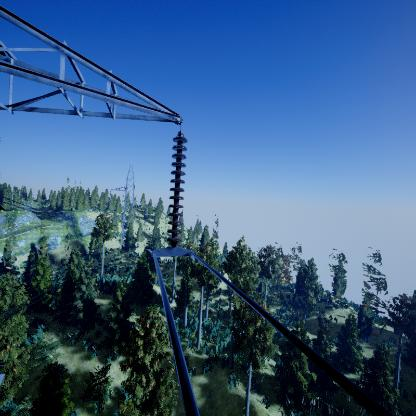insulator: (164, 136, 189, 245)
